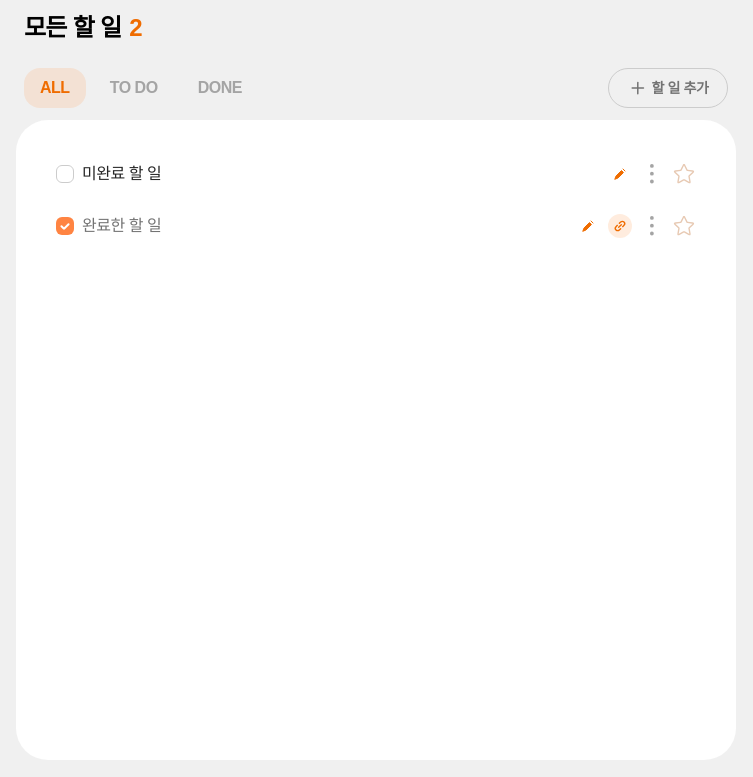
TodosView › TO DO 탭을 처음 열면 done=false로 첫 페이지부터 조회한다
Expected: the button "미완료 할 일" is shown, [82,162,600,186]
Click the tab "TO DO".
click(134, 88)  # box [94,68,174,108]
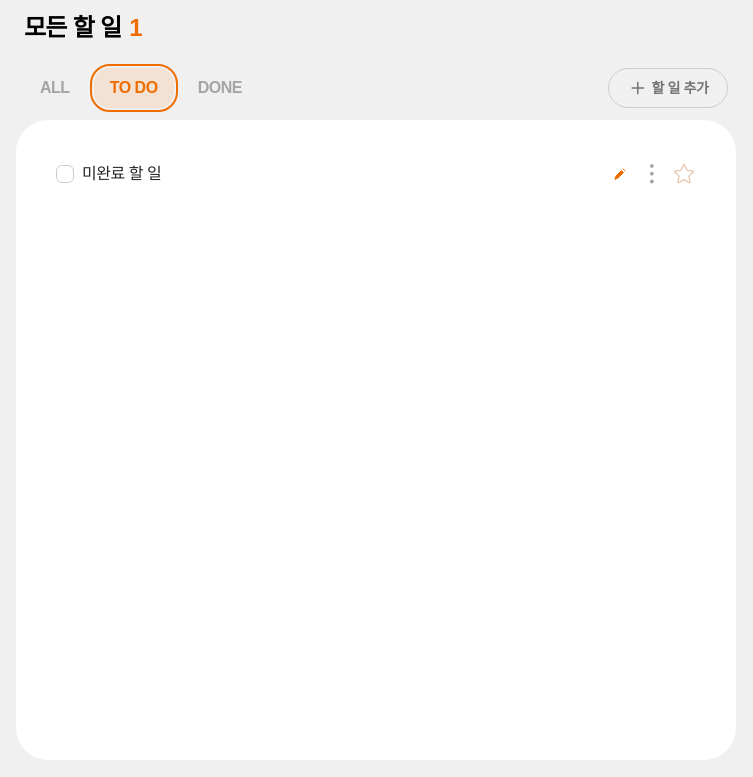
Expected: the button "미완료 할 일" is shown, [82,162,600,186]
Result: the button "완료한 할 일" is gone
Result: the heading "모든 할 일 1" is shown at [24,14,142,41]
